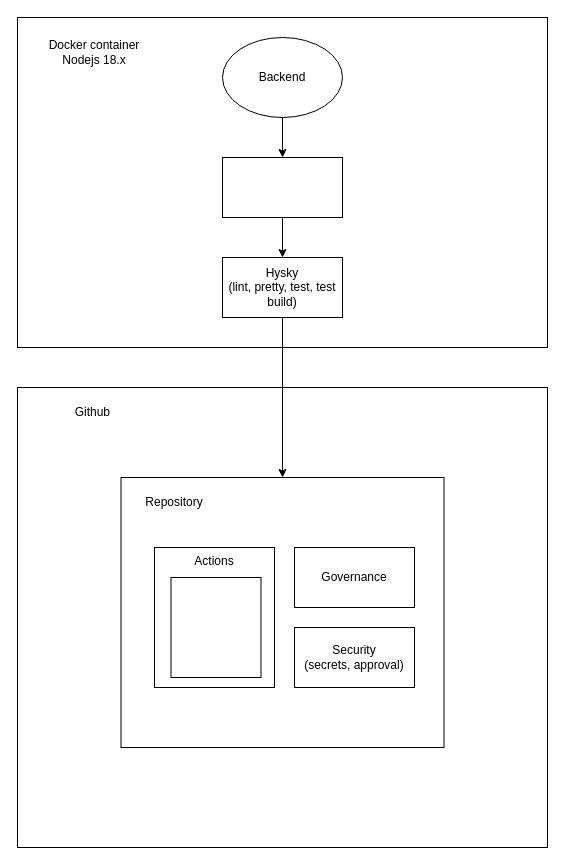
Some shapes in this 565 by 865 pixel diagram are drawn without their labels. The shapes that lost their labels are listed below. From the top down, each one's centre as x and y in pixels, then its label:
At point (282, 187): "Commit".
At point (215, 627): "Quality Warranty (test, build, run)".
